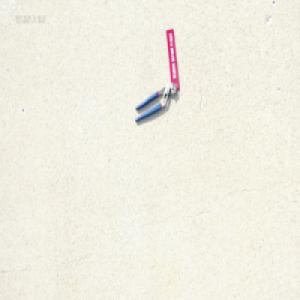Label: (166, 27, 179, 90)
Pliers: (134, 81, 176, 122)
